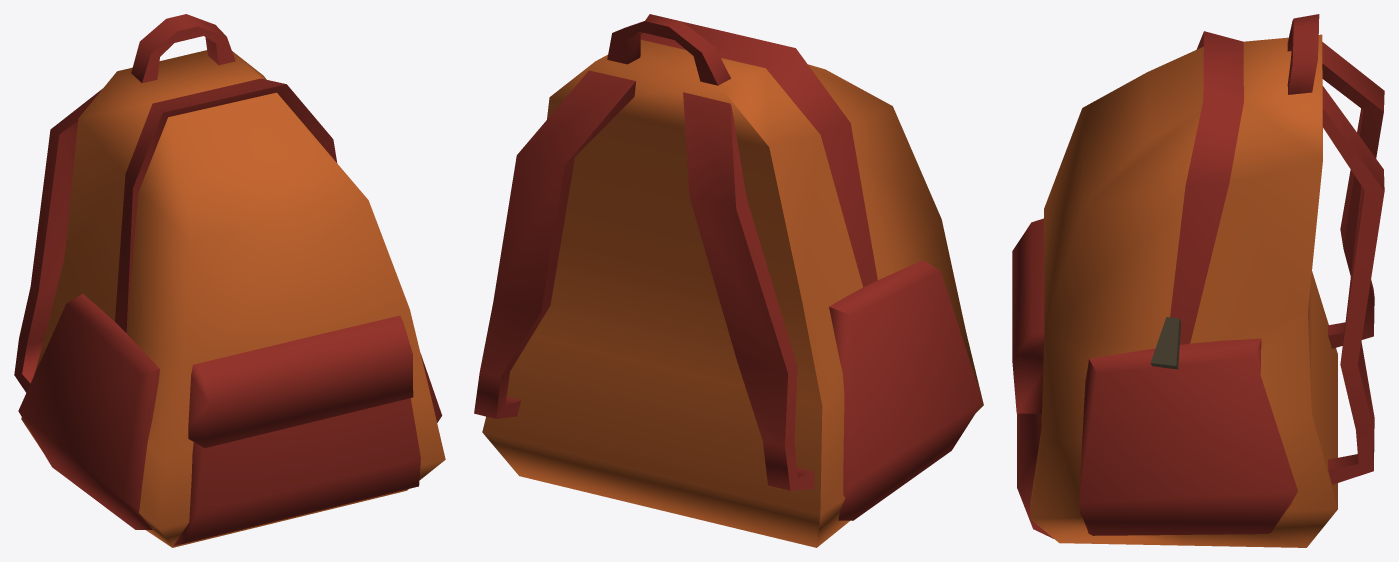
Rendered from bag.fbx.
3 views of the same model, side by side, from view 1: azimuth 30°, elevation 25°; view 2: azimuth 150°, elevation 25°; view 3: azimuth 270°, elevation 25° (orthographic). The views are drawn at different scales.
Visible parts, largest first — view 1: polySurface2; view 2: polySurface2; view 3: polySurface2.
Boxes of the visible parts, x1,y1,x2,y2 form: polySurface2: [14, 14, 445, 547]; polySurface2: [474, 14, 983, 547]; polySurface2: [1012, 14, 1384, 547].
Bounding box in the file's own units: 0.804 × 0.9917 × 0.7237.
